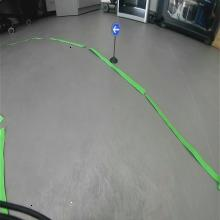left: (111, 22, 121, 36)
